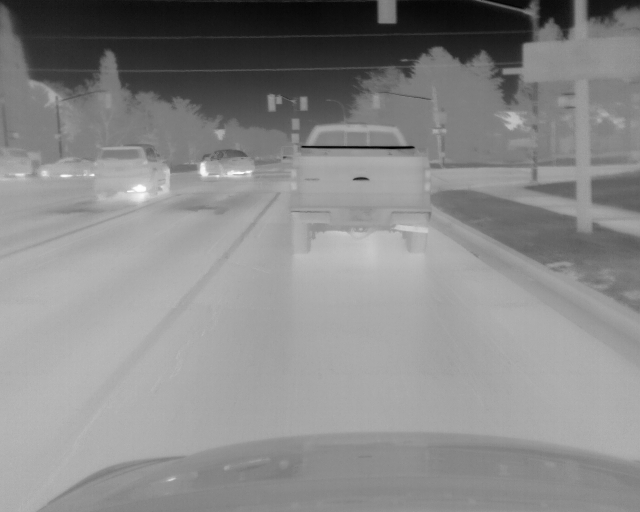car: (290, 122, 434, 258), (93, 143, 171, 200), (198, 149, 256, 178), (38, 156, 94, 178), (1, 148, 31, 179)
